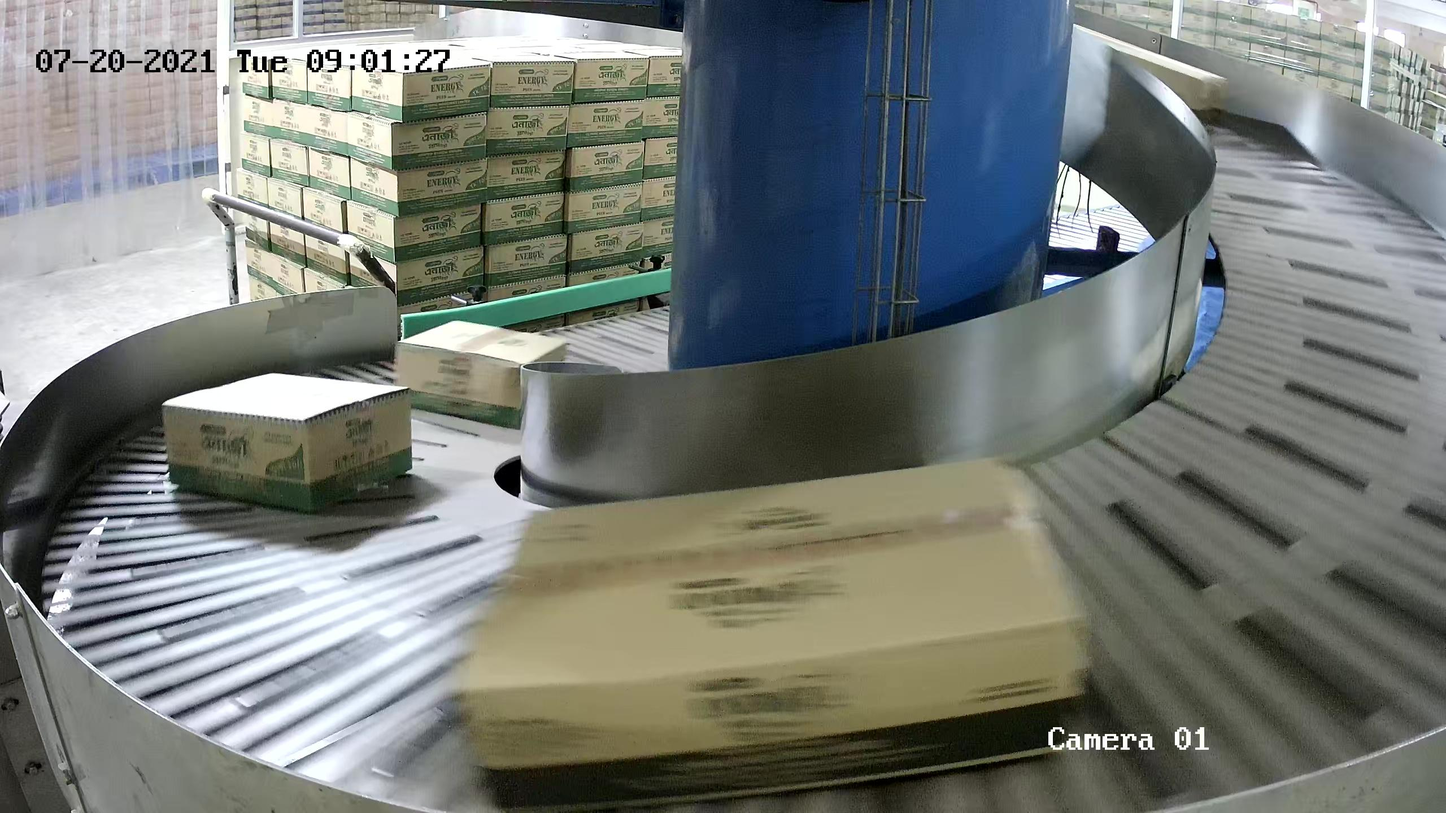Box: (448, 449, 1099, 813), (160, 370, 415, 518), (392, 317, 570, 431)
